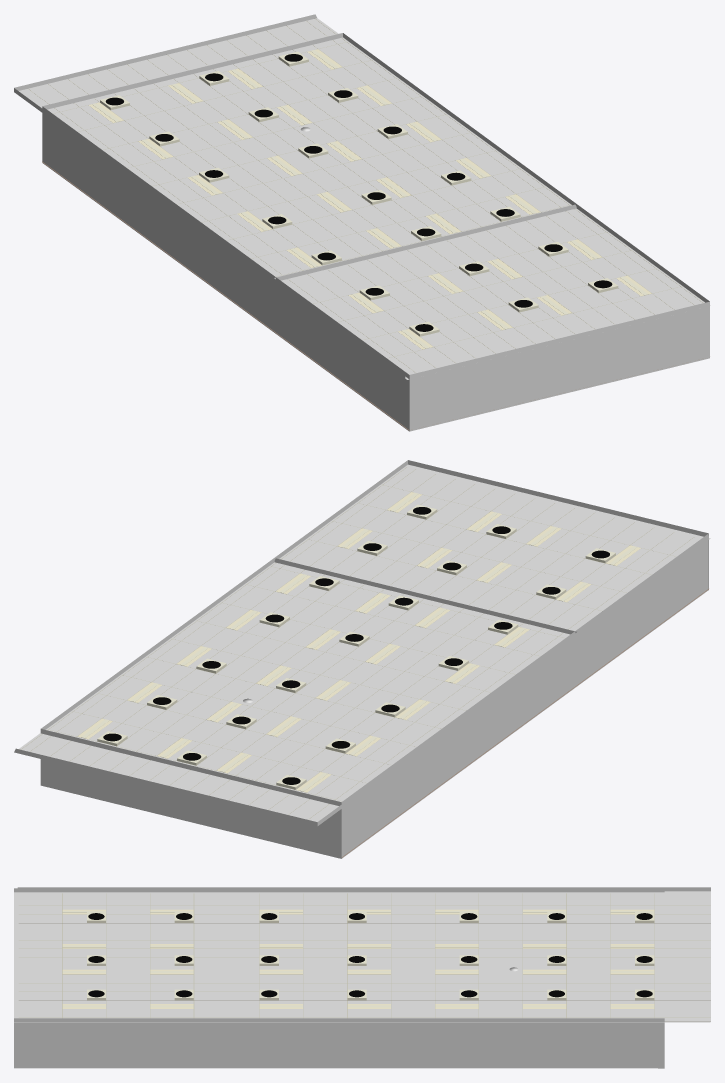
Rendered from supermarket3.fbx.
The picture shows the model from 3 angles, top to bottom: view 1: azimuth 30°, elevation 25°; view 2: azimuth 150°, elevation 25°; view 3: azimuth 270°, elevation 25°; orthographic projection. The views are drawn at different scales.
Parts seen in each view (by area): view 1: Cube.031, Plane, Cube.032, Splints roof, Light right.019, Cube.050, Splints roof.001, Middle, Light right.001, Cube.033, Middle.001; view 2: Cube.031, Cube.032, Plane, Splints roof, Light right.019, Cube.050, Splints roof.001, Middle, Light right.001, Cube.033, Middle.001; view 3: Cube.031, Plane, Cube.032, Splints roof, Light right.019, Splints roof.001, Cube.050, Middle, Light right.001, Middle.001, Cube.033.
Boxes of the visible parts, left/top/right/bottom form: Cube.031: left=14, top=14, right=571, bottom=284; Plane: left=42, top=33, right=709, bottom=431; Cube.032: left=274, top=204, right=710, bottom=379; Splints roof: left=28, top=19, right=570, bottom=276; Light right.019: left=88, top=49, right=540, bottom=267; Cube.050: left=100, top=51, right=520, bottom=265; Splints roof.001: left=288, top=209, right=702, bottom=372; Middle: left=92, top=50, right=536, bottom=267; Light right.001: left=348, top=239, right=651, bottom=349; Cube.033: left=359, top=242, right=618, bottom=336; Middle.001: left=352, top=240, right=648, bottom=348; Cube.031: left=14, top=562, right=577, bottom=826; Cube.032: left=274, top=464, right=710, bottom=635; Plane: left=40, top=460, right=708, bottom=858; Splints roof: left=21, top=562, right=565, bottom=819; Light right.019: left=78, top=573, right=529, bottom=792; Cube.050: left=97, top=576, right=518, bottom=789; Splints roof.001: left=281, top=467, right=694, bottom=629; Middle: left=81, top=574, right=526, bottom=791; Light right.001: left=338, top=492, right=640, bottom=602; Cube.033: left=357, top=504, right=615, bottom=599; Middle.001: left=341, top=493, right=637, bottom=601; Cube.031: left=224, top=887, right=710, bottom=1022; Plane: left=14, top=888, right=664, bottom=1068; Cube.032: left=14, top=887, right=250, bottom=1022; Splints roof: left=227, top=893, right=710, bottom=1021; Light right.019: left=259, top=909, right=654, bottom=1008; Splints roof.001: left=19, top=893, right=250, bottom=1018; Cube.050: left=259, top=912, right=654, bottom=1000; Middle: left=259, top=911, right=654, bottom=1007; Light right.001: left=62, top=909, right=193, bottom=1008; Middle.001: left=62, top=911, right=193, bottom=1007; Cube.033: left=87, top=912, right=193, bottom=1000.
Bounding box in the file's own units: 2141 × 382 × 4799.
